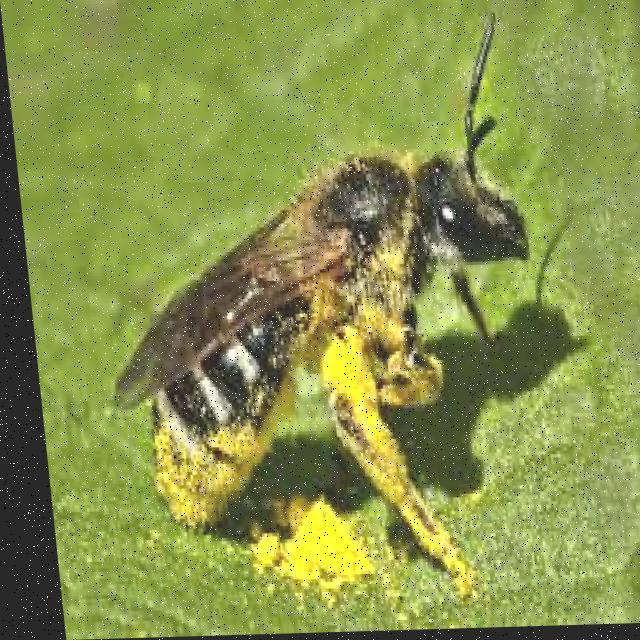Lasioglossum: (91, 7, 577, 617)
